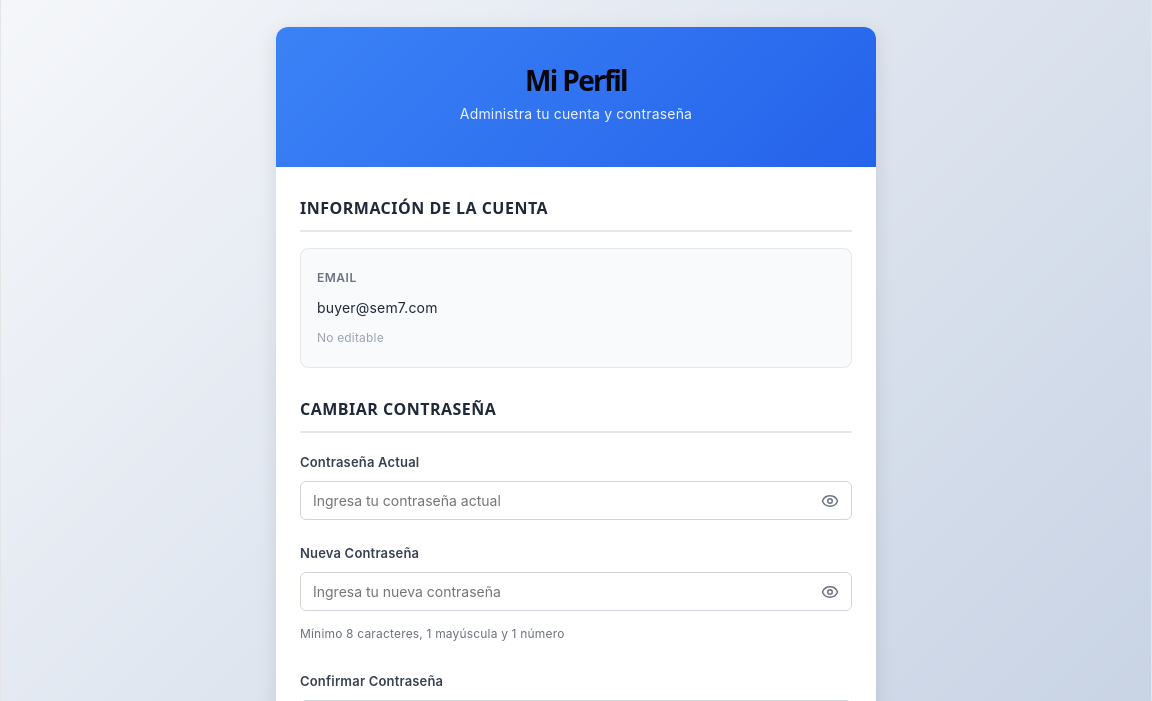
Scenario: ProfilePage › shows error when passwords do not match
Type "Curr3nt!" into the password field labelled "Contraseña Actual" at (555, 501), box [301,482,809,519]
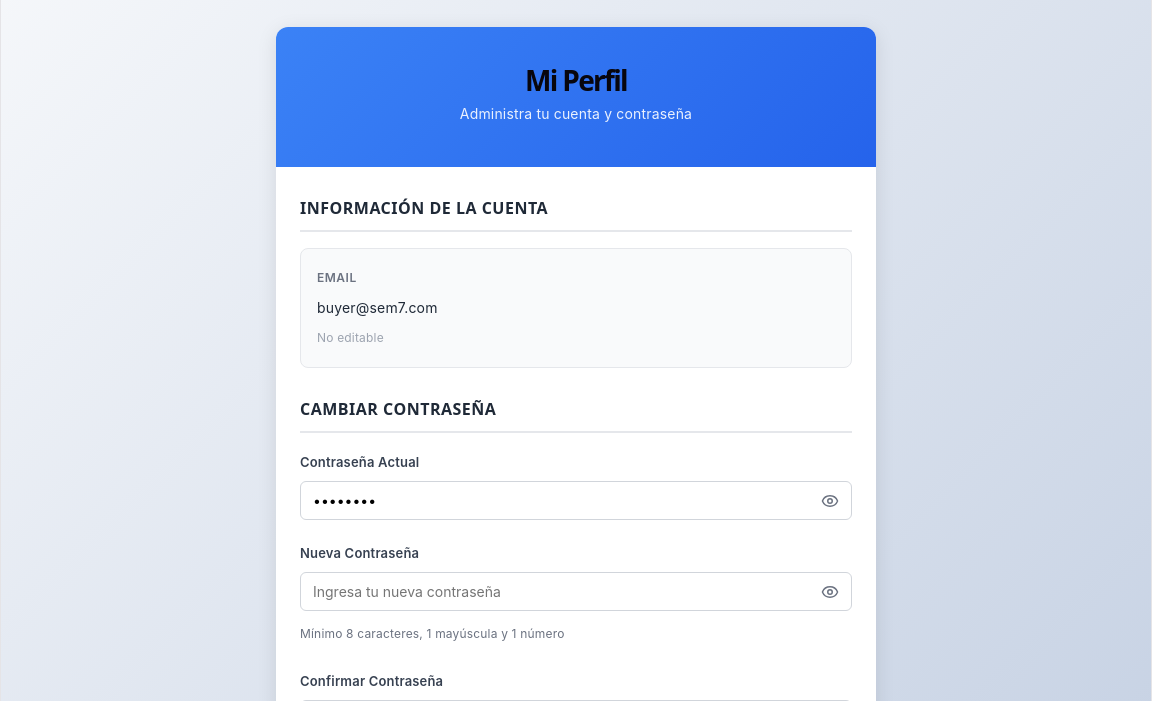
Type "New1pass!" into the password field labelled "Nueva Contraseña" at (555, 592), box [301,573,809,610]
(page scrolled)
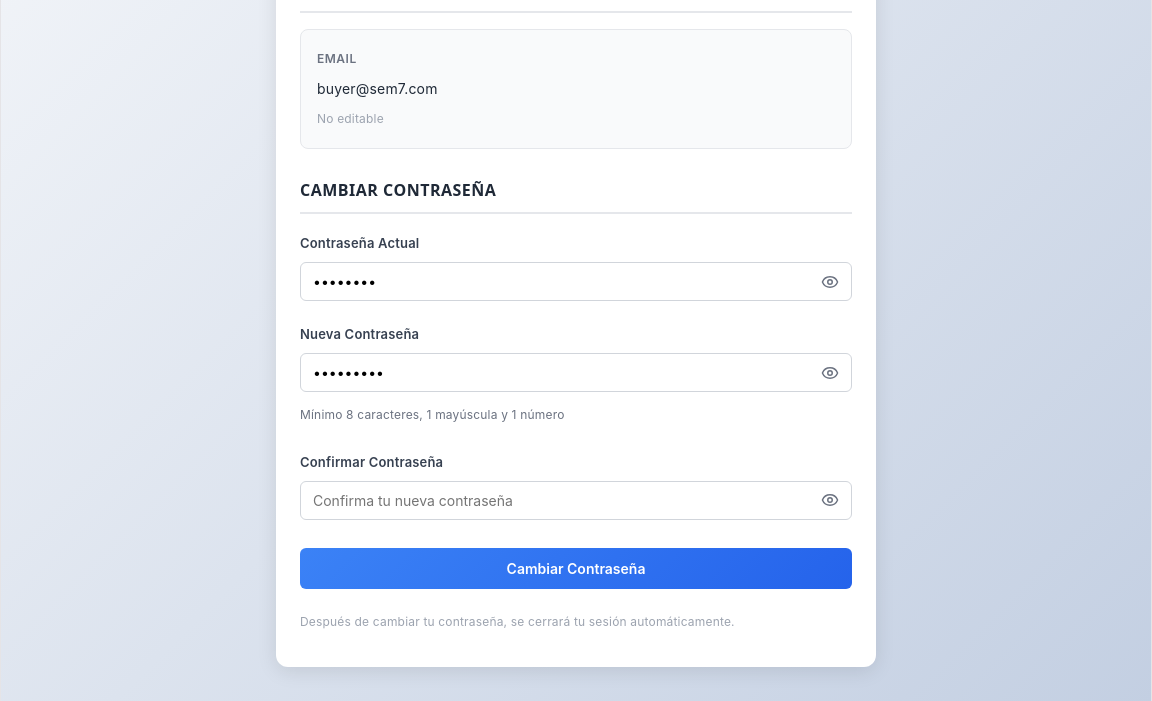
Type "Different1!" into the password field labelled "Confirmar Contraseña" at (555, 500), box [301,482,809,519]
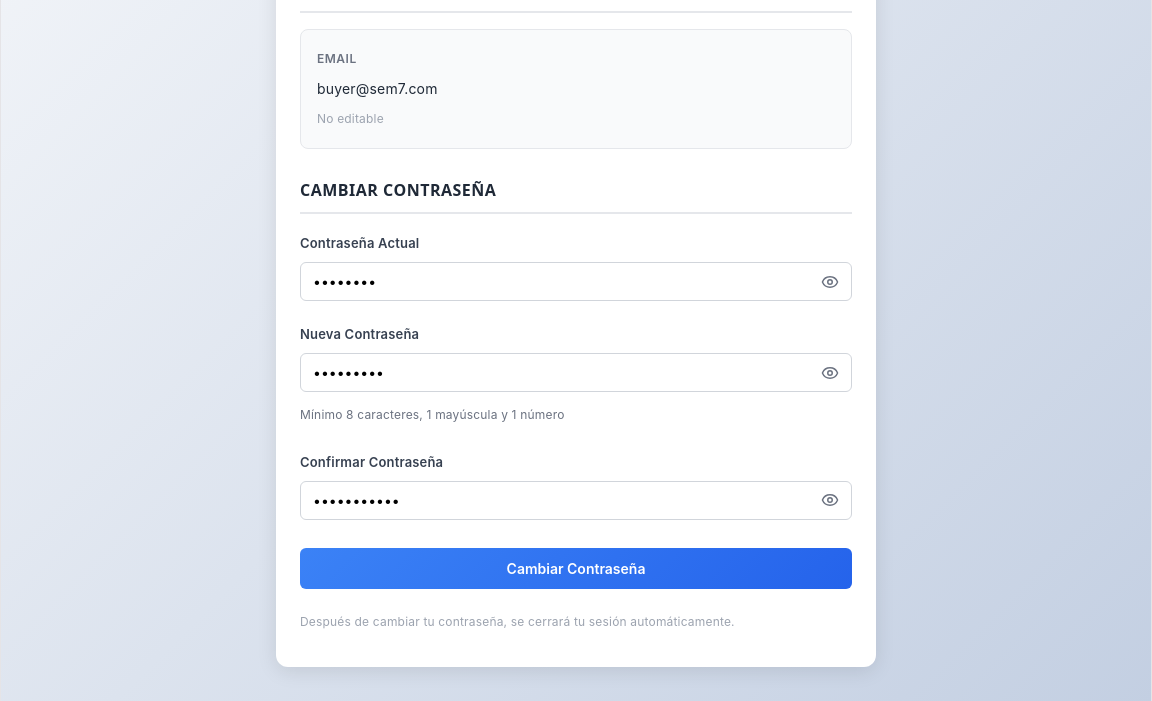
Click the button "Cambiar Contraseña" at (576, 568), box [300,548,852,589]
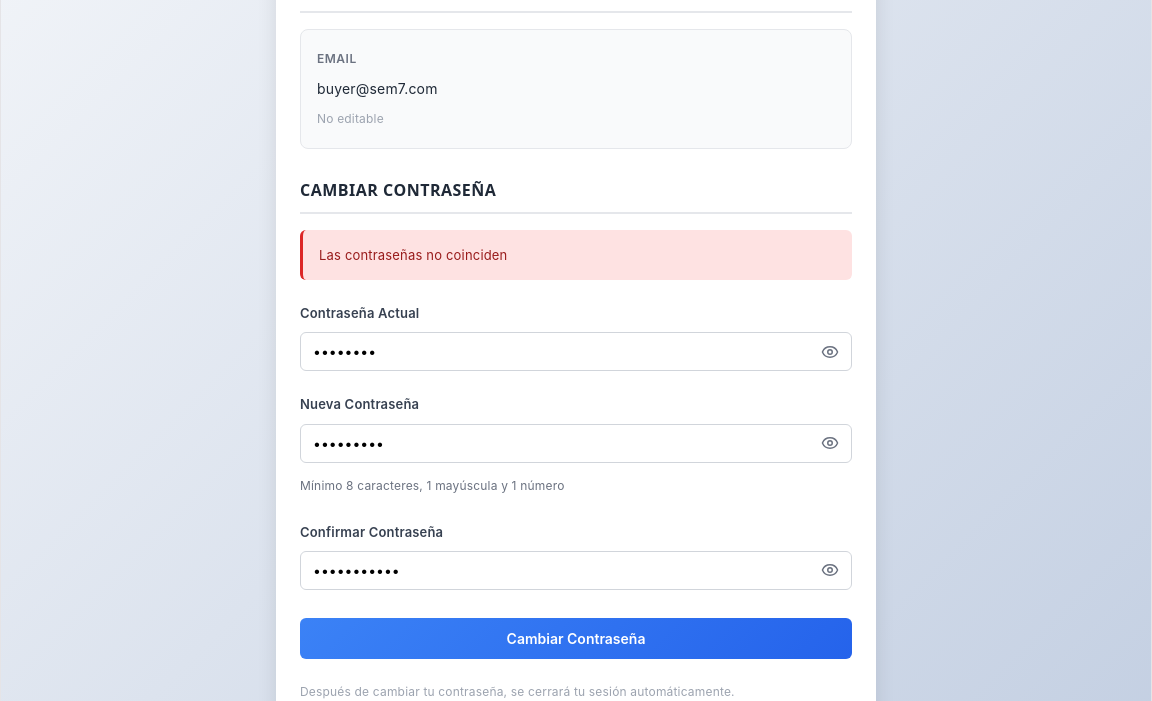
Result: the text "Las contraseñas no coinciden" is shown at [300,230,852,280]
